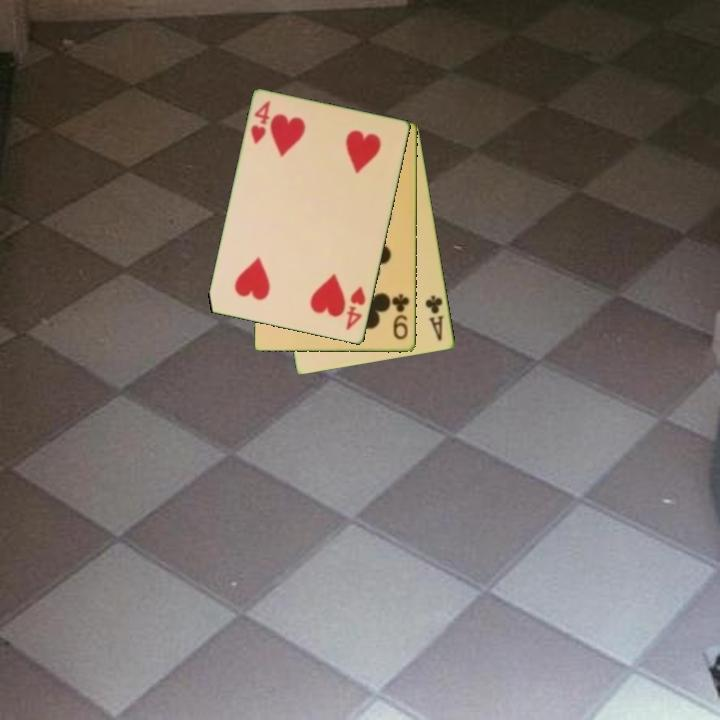4h: (343, 283, 369, 333), (247, 97, 273, 147)
9c: (390, 290, 412, 343)
Ac: (422, 292, 448, 344)
